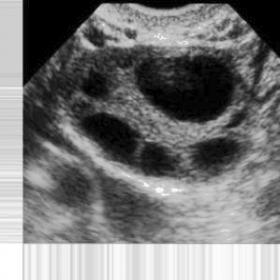PCOS: (129, 55, 238, 125), (72, 111, 138, 164), (187, 134, 248, 173), (136, 143, 181, 178), (220, 105, 256, 136), (80, 71, 112, 103), (84, 20, 113, 53)
